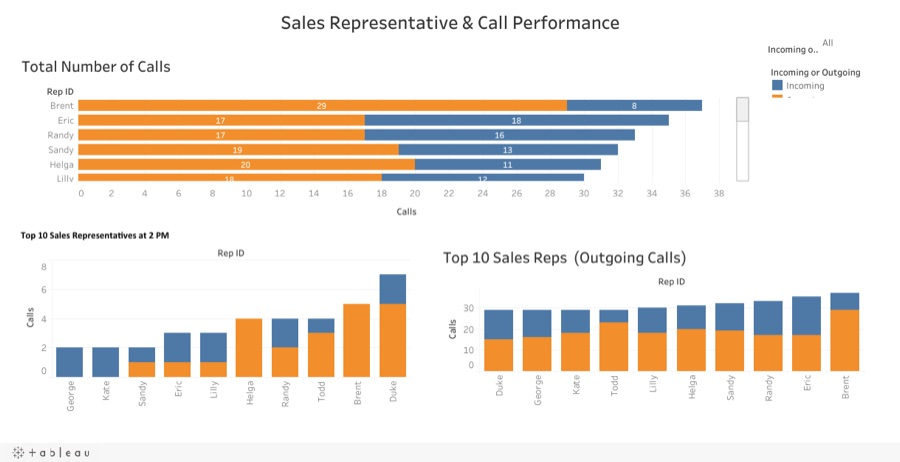

Layout of this report page (visuals, bound fields, positions):
{"tool":"tableau","page":{"name":"Sales Representative and Calls Performance","canvas":[1000,1000],"units":"permille","ordinal":1},"visuals":[{"type":"title","box":[6.6,10.6,986.9,54.4]},{"type":"filter","title":"Top 10 Sales Reps Largest Number of Outgoing Calls","param":"[federated.0fvhhaa08bqzon16xou0b1b5afwd].[none:Incoming or Outgoing:nk]","box":[852.5,79.7,131.2,58.4]},{"type":"worksheet","title":"Total Number of Calls","mark":"Automatic","rows":["Rep ID"],"cols":["Calls"],"box":[20.5,114.2,811.5,389.1]},{"type":"legend","title":"Total Number of Calls","param":"[federated.0fvhhaa08bqzon16xou0b1b5afwd].[none:Incoming or Outgoing:nk]","box":[854.9,143.4,136.1,77]},{"type":"worksheet","title":"Top 10 Sales Representatives @ 2 PM","mark":"Automatic","rows":["Calls"],"cols":["Rep ID"],"box":[19.7,507.3,436.1,444.9]},{"type":"worksheet","title":"Top 10 Sales Reps Largest Number of Outgoing Calls","mark":"Automatic","rows":["Calls"],"cols":["Rep ID"],"box":[488.5,547.1,471.3,391.8]}]}

Visuals, with their boxes on the dashboard's canvas, which has no fixed pixel size, in thousandths of its width and height (x1, y1, x2, y2). These are canvas units, not pixel positions in the 900x462 screenshot, which may show the page scaled, cropped or inside an application window:
title: region(7, 11, 994, 65)
"Top 10 Sales Reps Largest Number of Outgoing Calls" filter: region(852, 80, 984, 138)
"Total Number of Calls" worksheet: region(20, 114, 832, 503)
"Total Number of Calls" legend: region(855, 143, 991, 220)
"Top 10 Sales Representatives @ 2 PM" worksheet: region(20, 507, 456, 952)
"Top 10 Sales Reps Largest Number of Outgoing Calls" worksheet: region(488, 547, 960, 939)
